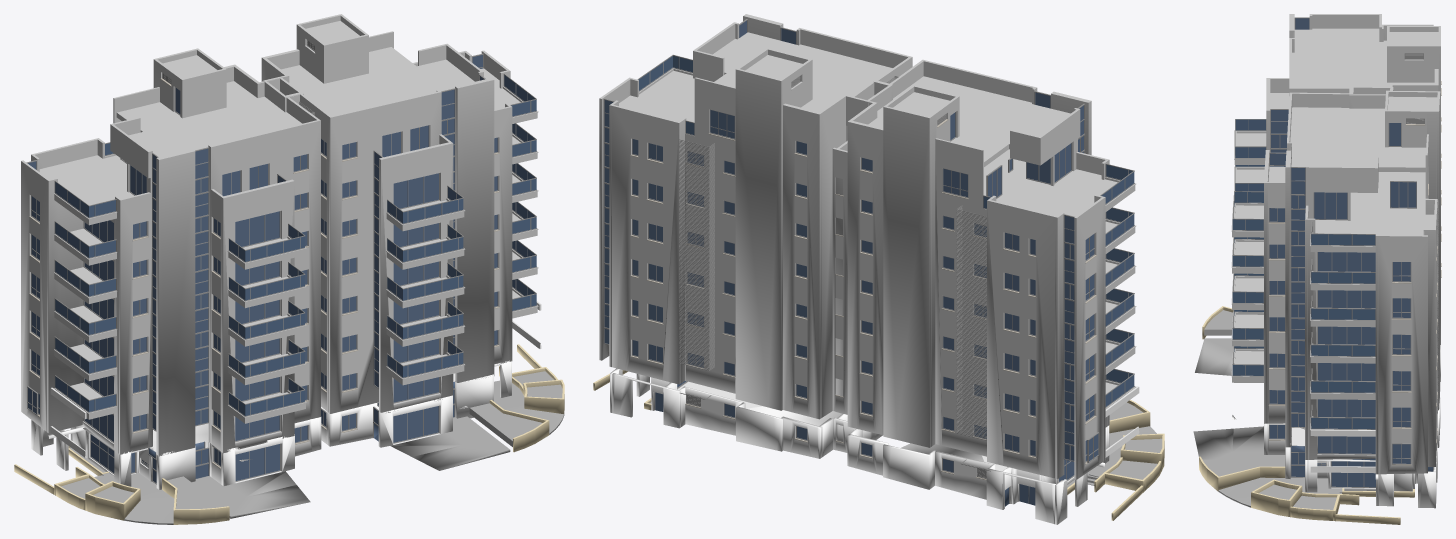
The model's file is High_rise_1.glb.
3 views of the same model, side by side, from view 1: azimuth 30°, elevation 25°; view 2: azimuth 150°, elevation 25°; view 3: azimuth 270°, elevation 25° (orthographic). The views are drawn at different scales.
Parts seen in each view (by area): view 1: Line01.002, Rectangle03, Rectangle03.002, Line01, Line02, Rectangle01.002, Rectangle01, Line42, Line42.002, Rectangle06, Line03, Line02.002 (+63 smaller); view 2: Line21, Line21.002, Rectangle44, Rectangle44.002, Line22, Line22.002, Rectangle46.002, Rectangle46, Rectangle06, Line42, Line42.002, Line23.002 (+41 smaller); view 3: Rectangle06.001, Line42.002, Line42, Line40.002, Rectangle04.002, Line04.002, Line24.002, Line05.002, Rectangle03.002, Rectangle56, Line339.003, Line339.001 (+88 smaller).
Part boxes in pixels (x1,y1,x2,y2): Line01.002: [329, 91, 441, 413]; Rectangle03: [156, 149, 195, 456]; Rectangle03.002: [455, 78, 494, 382]; Line01: [209, 119, 320, 443]; Line02: [119, 192, 152, 454]; Rectangle01.002: [379, 142, 453, 412]; Rectangle01: [221, 179, 294, 453]; Line42: [116, 81, 301, 157]; Line42.002: [281, 47, 474, 115]; Rectangle06: [21, 160, 48, 431]; Line03: [47, 178, 84, 433]; Line02.002: [494, 106, 512, 364]; Line21: [987, 199, 1056, 478]; Line21.002: [612, 105, 680, 384]; Rectangle44: [883, 106, 930, 447]; Rectangle44.002: [735, 68, 782, 410]; Line22: [935, 138, 986, 456]; Line22.002: [685, 77, 735, 393]; Rectangle46.002: [783, 103, 821, 419]; Rectangle46: [847, 120, 883, 434]; Rectangle06: [1074, 197, 1103, 479]; Line42: [868, 76, 1070, 166]; Line42.002: [713, 32, 892, 111]; Line23.002: [819, 95, 845, 417]; Rectangle06.001: [1378, 235, 1427, 474]; Line42.002: [1290, 107, 1426, 172]; Line42: [1292, 28, 1434, 87]; Line40.002: [1268, 166, 1434, 235]; Rectangle04.002: [1267, 182, 1285, 423]; Line04.002: [1307, 218, 1375, 459]; Line24.002: [1306, 154, 1378, 192]; Line05.002: [1423, 229, 1435, 466]; Rectangle03.002: [1285, 150, 1291, 447]; Rectangle56: [1389, 45, 1438, 82]; Line339.003: [1193, 428, 1285, 460]; Line339.001: [1195, 338, 1233, 375].
Size of the model in its own units: 42.92 by 29.53 by 19.46.
